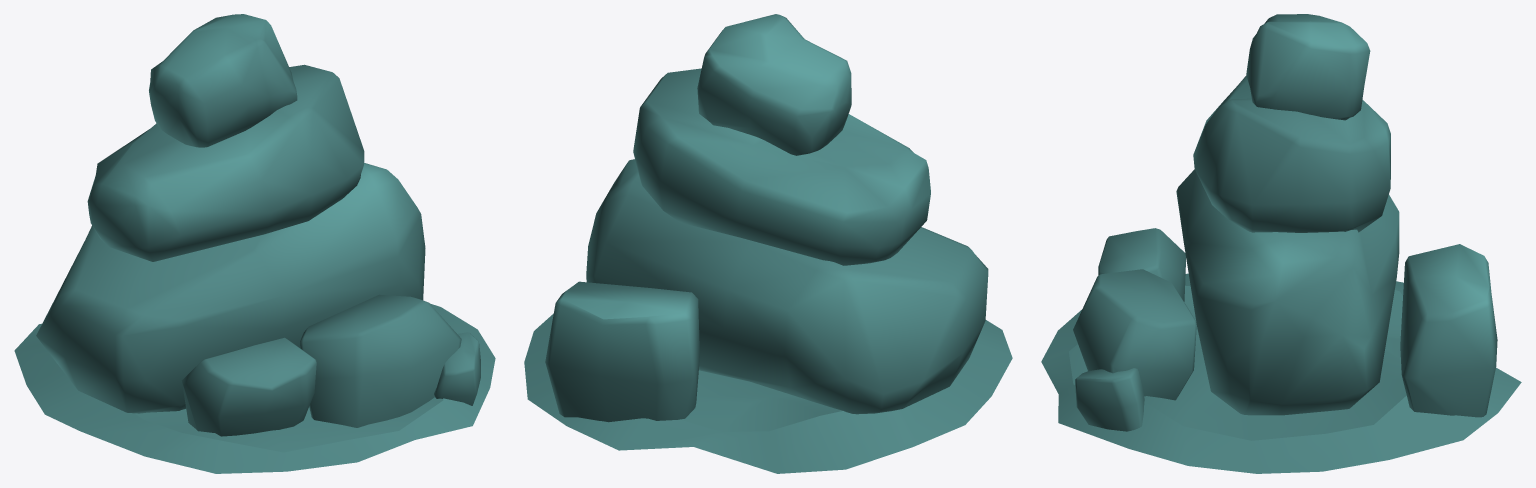
The model's file is Rock1.fbx.
3 views of the same model, side by side, from view 1: azimuth 30°, elevation 25°; view 2: azimuth 150°, elevation 25°; view 3: azimuth 270°, elevation 25° (orthographic). The views are drawn at different scales.
Visible parts, largest first — view 1: Cube.003; view 2: Cube.003; view 3: Cube.003.
Boxes of the visible parts, x1=… form: Cube.003: x1=14, y1=14, x2=495, y2=473; Cube.003: x1=524, y1=14, x2=1012, y2=473; Cube.003: x1=1041, y1=14, x2=1521, y2=473.
Size of the model in its own units: 208 by 163 by 206.
